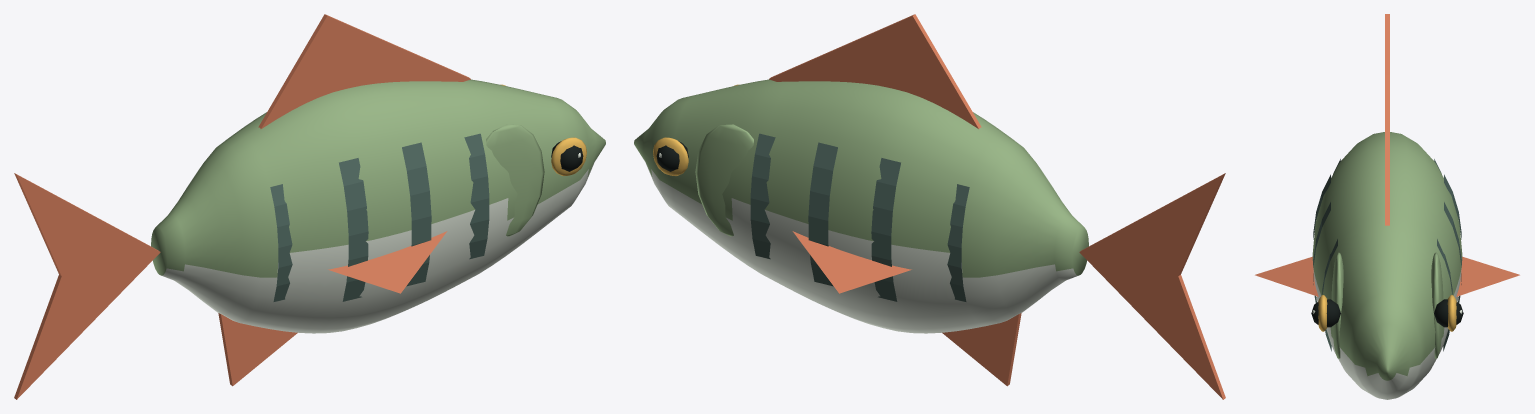
Rendered from perch.glb.
3 views of the same model, side by side, from view 1: azimuth 30°, elevation 25°; view 2: azimuth 150°, elevation 25°; view 3: azimuth 270°, elevation 25° (orthographic). The views are drawn at different scales.
Visible parts, largest first — view 1: perch_Body, Dorsal.002, TailFinLower.002, TailFin.002, Gill_plate.004, Anal_fin.002, Pectoral.004, Perch_bar.004, Perch_bar.002, Perch_bar, Perch_bar.006, Iris_rim.004; view 2: perch_Body, Dorsal.002, TailFinLower.002, TailFin.002, Gill_plate.005, Anal_fin.002, Pectoral.005, Perch_bar.005, Perch_bar.003, Perch_bar.001, Perch_bar.007, Iris_rim.005; view 3: perch_Body, Pectoral.004, Pectoral.005, Gill_plate.004, Gill_plate.005, Dorsal.002, Eye.004, Eye.005, Iris_rim.004, Iris_rim.005, TailFin.002.
Part boxes in pixels (<box>): perch_Body: <box>151,79,605,333</box>; Dorsal.002: <box>258,14,470,128</box>; TailFinLower.002: <box>14,252,160,399</box>; TailFin.002: <box>14,173,160,276</box>; Gill_plate.004: <box>486,124,544,236</box>; Anal_fin.002: <box>218,313,297,386</box>; Pectoral.004: <box>328,231,447,293</box>; Perch_bar.004: <box>339,158,368,301</box>; Perch_bar.002: <box>402,142,431,286</box>; Perch_bar: <box>464,133,489,259</box>; Perch_bar.006: <box>270,184,292,301</box>; Iris_rim.004: <box>551,137,586,175</box>; perch_Body: <box>634,79,1088,333</box>; Dorsal.002: <box>769,14,981,128</box>; TailFinLower.002: <box>1079,252,1225,399</box>; TailFin.002: <box>1079,173,1225,276</box>; Gill_plate.005: <box>695,124,753,236</box>; Anal_fin.002: <box>942,313,1021,386</box>; Pectoral.005: <box>792,231,911,293</box>; Perch_bar.005: <box>871,158,900,301</box>; Perch_bar.003: <box>808,142,837,286</box>; Perch_bar.001: <box>750,133,775,259</box>; Perch_bar.007: <box>947,184,969,301</box>; Iris_rim.005: <box>653,137,688,175</box>; perch_Body: <box>1312,132,1462,399</box>; Pectoral.004: <box>1255,256,1318,296</box>; Pectoral.005: <box>1456,256,1519,296</box>; Gill_plate.004: <box>1331,252,1343,358</box>; Gill_plate.005: <box>1431,252,1443,358</box>; Dorsal.002: <box>1385,75,1389,225</box>; Eye.004: <box>1311,299,1340,327</box>; Eye.005: <box>1434,299,1463,327</box>; Iris_rim.004: <box>1318,295,1327,331</box>; Iris_rim.005: <box>1447,295,1456,331</box>; TailFin.002: <box>1385,14,1389,75</box>.
Size of the model in its own units: 2.03 by 1.14 by 0.891.
